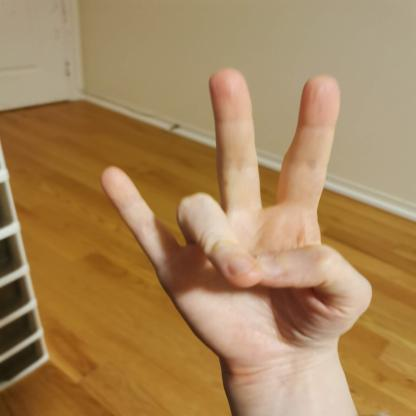seven: (96, 62, 380, 373)
